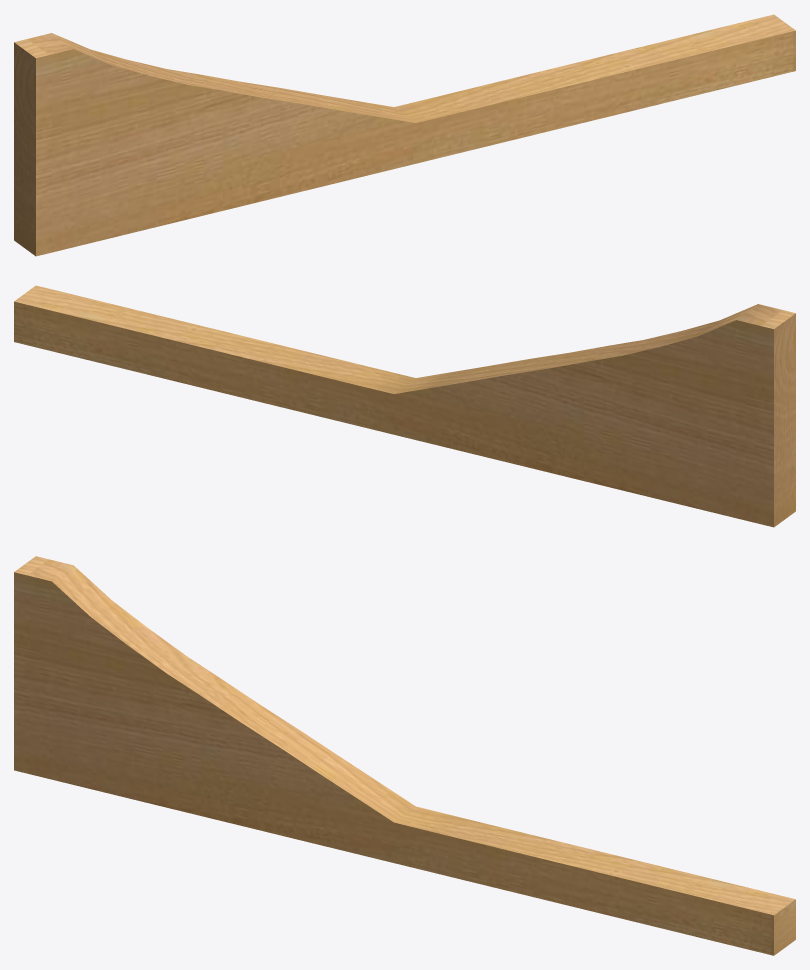
3 views of the same model, one above another, from view 1: azimuth 30°, elevation 25°; view 2: azimuth 150°, elevation 25°; view 3: azimuth 330°, elevation 25° (orthographic).
Visible parts, largest first — view 1: pCube3; view 2: pCube3; view 3: pCube3.
Boxes of the visible parts, bbox=[...] form: pCube3: bbox=[14, 14, 795, 256]; pCube3: bbox=[14, 285, 795, 527]; pCube3: bbox=[14, 556, 795, 955].
Size of the model in its own units: 20 by 4.98 by 1.
Materials: 1 (1 with a texture image).
